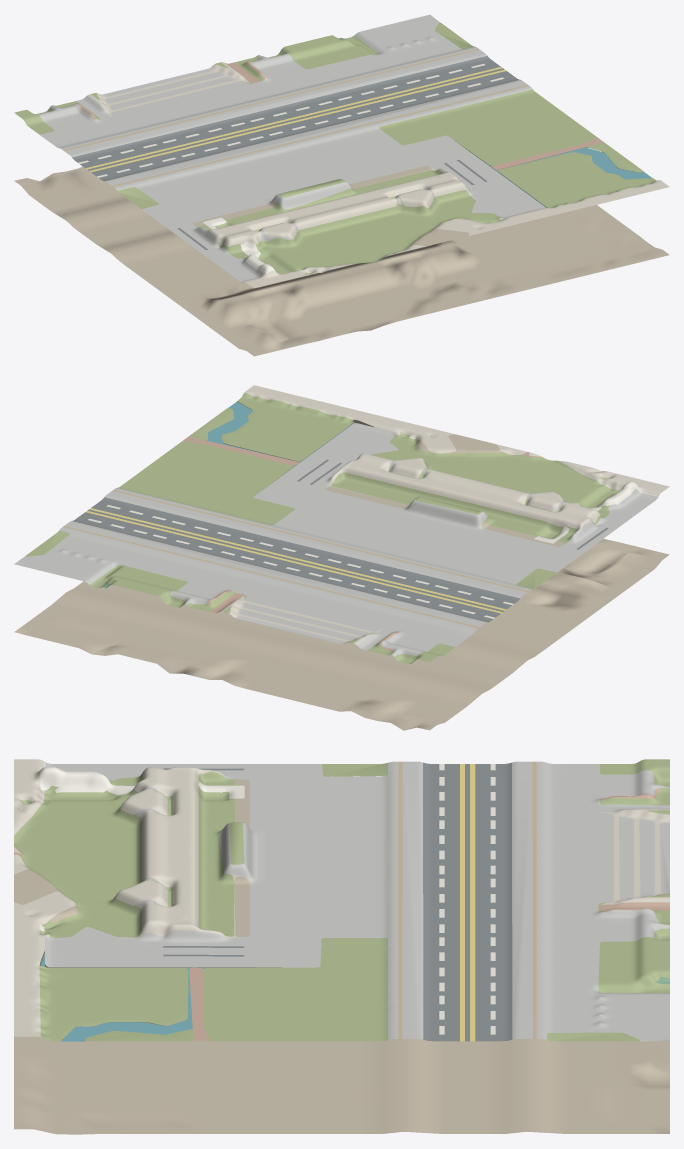
3 renders of one model, top to bottom at view 1: azimuth 30°, elevation 25°; view 2: azimuth 150°, elevation 25°; view 3: azimuth 270°, elevation 25°, orthographic. The views are drawn at different scales.
Parts seen in each view (by area): view 1: s_-1_1__stone_paving, s_-1_1__soil, s_-1_1__grass, s_-1_1__asphalt, s_-1_1__paving, s_-1_1__yellow_marking, s_-1_1__white_marking, s_-1_1__timber_deck, s_-1_1__brick_paving, s_-1_1__water; view 2: s_-1_1__stone_paving, s_-1_1__soil, s_-1_1__grass, s_-1_1__asphalt, s_-1_1__paving, s_-1_1__yellow_marking, s_-1_1__white_marking, s_-1_1__timber_deck, s_-1_1__brick_paving, s_-1_1__water; view 3: s_-1_1__stone_paving, s_-1_1__soil, s_-1_1__grass, s_-1_1__asphalt, s_-1_1__paving, s_-1_1__white_marking, s_-1_1__yellow_marking, s_-1_1__timber_deck, s_-1_1__brick_paving, s_-1_1__water.
Part boxes in pixels (<box>): s_-1_1__stone_paving: <box>38,14,545,282</box>; s_-1_1__soil: <box>14,166,669,356</box>; s_-1_1__grass: <box>14,22,658,275</box>; s_-1_1__asphalt: <box>72,56,519,249</box>; s_-1_1__paving: <box>87,21,669,288</box>; s_-1_1__yellow_marking: <box>86,67,506,172</box>; s_-1_1__white_marking: <box>78,63,504,276</box>; s_-1_1__timber_deck: <box>63,48,528,186</box>; s_-1_1__brick_paving: <box>76,61,603,256</box>; s_-1_1__water: <box>476,147,651,207</box>; s_-1_1__stone_paving: <box>14,423,658,656</box>; s_-1_1__soil: <box>14,432,669,730</box>; s_-1_1__grass: <box>25,392,620,663</box>; s_-1_1__asphalt: <box>72,459,608,622</box>; s_-1_1__paving: <box>23,385,669,644</box>; s_-1_1__yellow_marking: <box>86,508,506,613</box>; s_-1_1__white_marking: <box>88,435,658,618</box>; s_-1_1__timber_deck: <box>63,490,528,628</box>; s_-1_1__brick_paving: <box>182,436,542,652</box>; s_-1_1__water: <box>207,401,354,477</box>; s_-1_1__stone_paving: <box>45,761,669,1041</box>; s_-1_1__soil: <box>14,779,669,1134</box>; s_-1_1__grass: <box>14,759,669,1041</box>; s_-1_1__asphalt: <box>163,762,512,1041</box>; s_-1_1__paving: <box>14,759,669,1041</box>; s_-1_1__white_marking: <box>39,761,495,1034</box>; s_-1_1__yellow_marking: <box>460,764,475,1041</box>; s_-1_1__timber_deck: <box>398,761,536,1038</box>; s_-1_1__brick_paving: <box>14,787,669,1041</box>; s_-1_1__water: <box>40,953,205,1041</box>.
Size of the model in its own units: 128 by 24.01 by 128.
